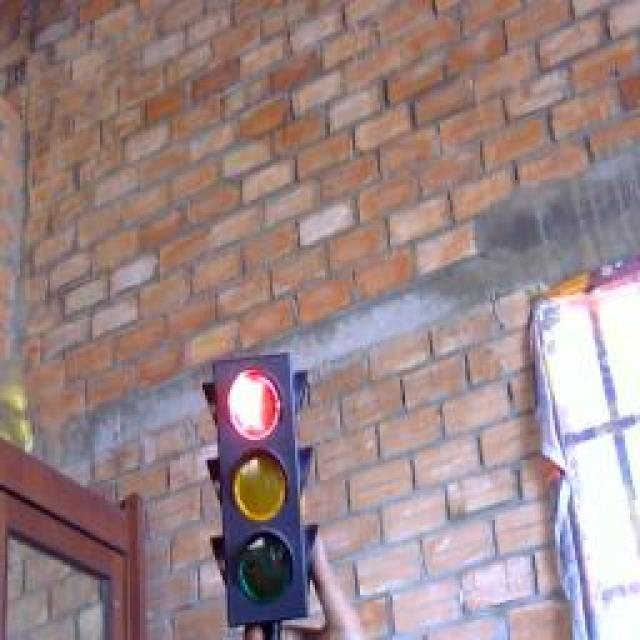-: (224, 361, 294, 449)
